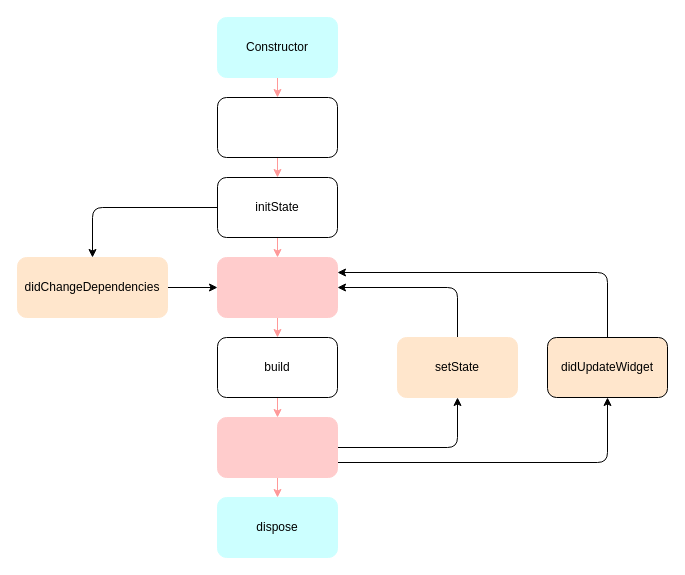
Image size: 685x575. Some labels were removed from this diagram. Each missing label, with the centre of its shape:
"cleanState" goes at (x=277, y=447).
"dirtyState" goes at (x=277, y=287).
"Mounted" goes at (x=277, y=127).
